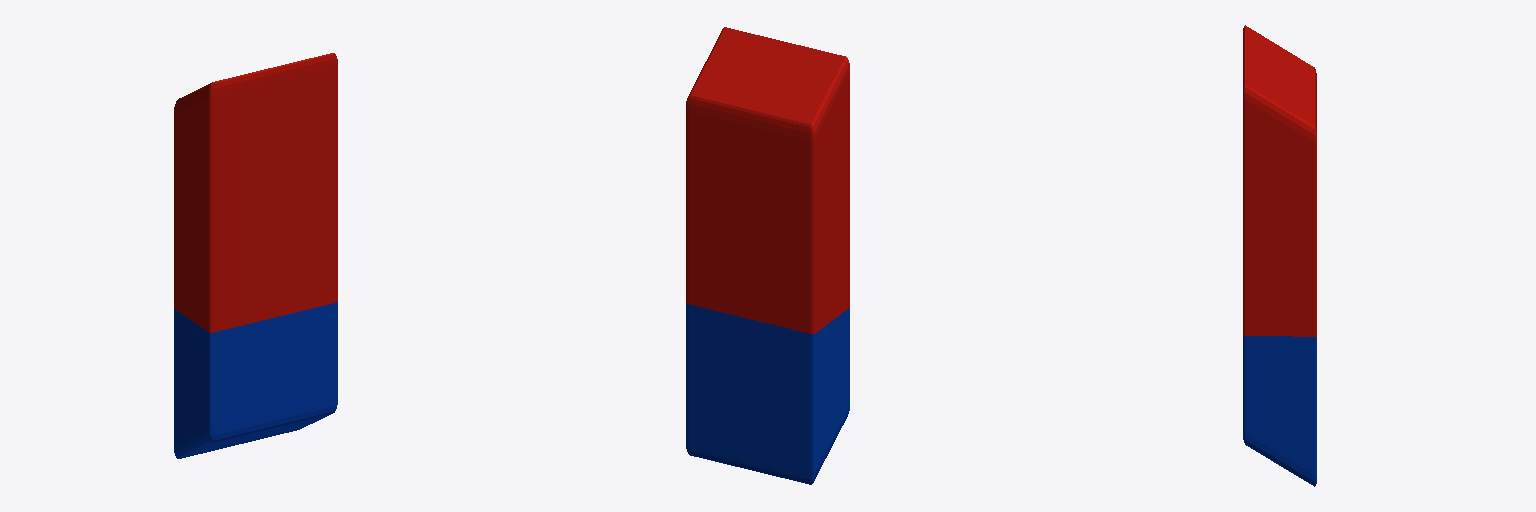
The model's file is eraser.obj.
The picture shows the model from 3 angles: view 1: azimuth 30°, elevation 25°; view 2: azimuth 150°, elevation 25°; view 3: azimuth 270°, elevation 25°; orthographic projection.
Parts seen in each view (by area): view 1: Eraser_Cylinder.022; view 2: Eraser_Cylinder.022; view 3: Eraser_Cylinder.022.
Part boxes in pixels (left/top/right/bottom): Eraser_Cylinder.022: left=174, top=53, right=337, bottom=458; Eraser_Cylinder.022: left=686, top=27, right=849, bottom=484; Eraser_Cylinder.022: left=1243, top=25, right=1316, bottom=486.
Bounding box in the file's own units: 0.03 × 0.0893 × 0.015.